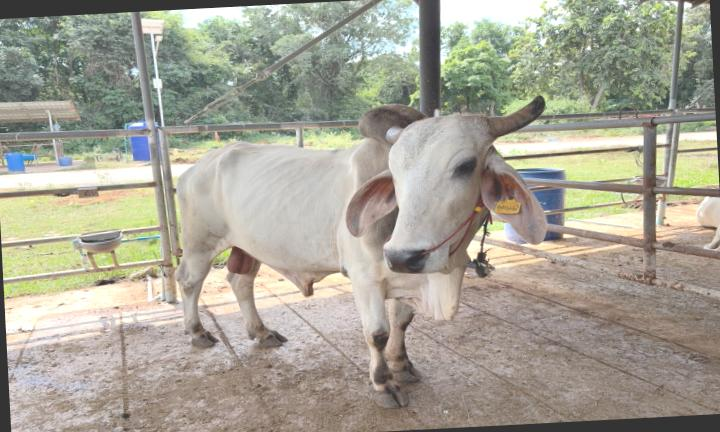Brahman: (176, 95, 546, 407)
